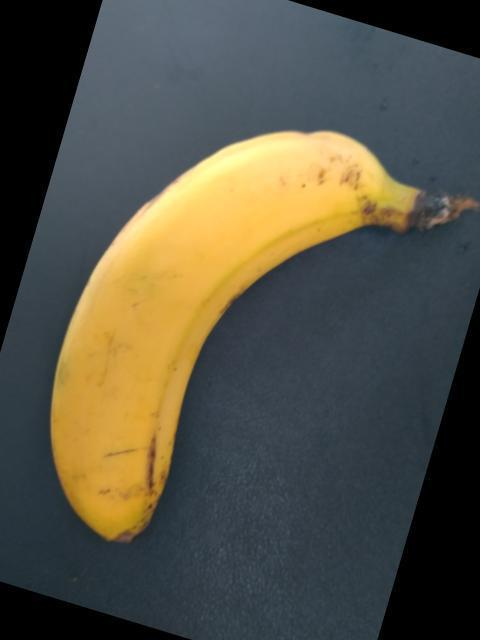freshripe: (0, 102, 394, 628)
